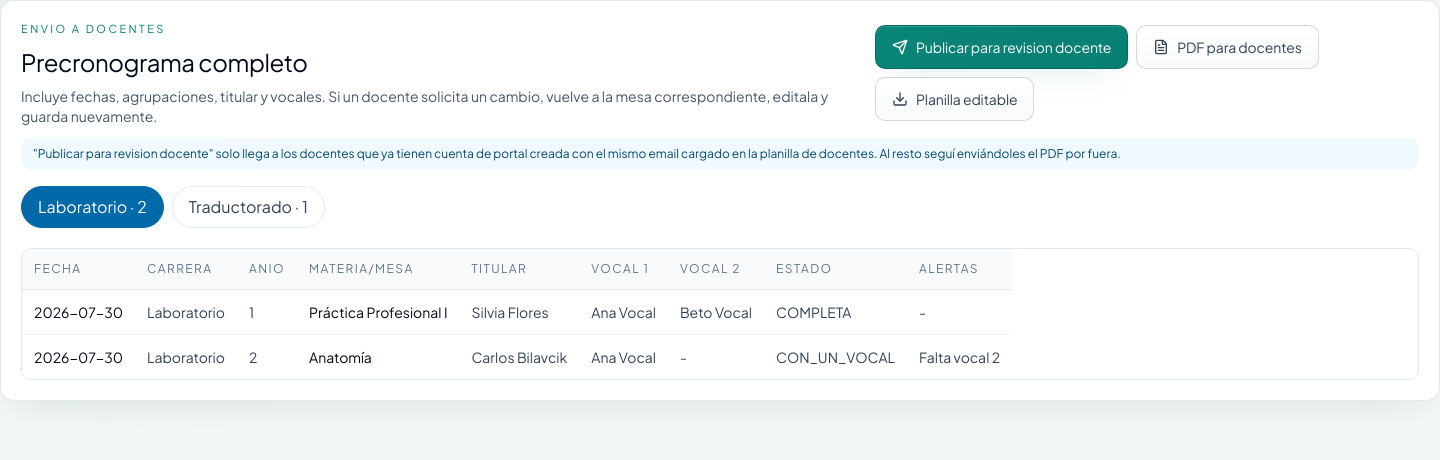
Test case: TribunalReviewTable › filtra la tabla por carrera para no mostrar todas las mesas juntas
This screenshot has width=1440, height=460.
Check: the text "Práctica Profesional I" is shown, box top-left (297, 289), bottom-right (460, 334)
Check: the text "Anatomía" is shown, box top-left (297, 334), bottom-right (460, 378)
Step 1. Click the button "Traductorado · 1" → (248, 206), box top-left (172, 186), bottom-right (325, 228)
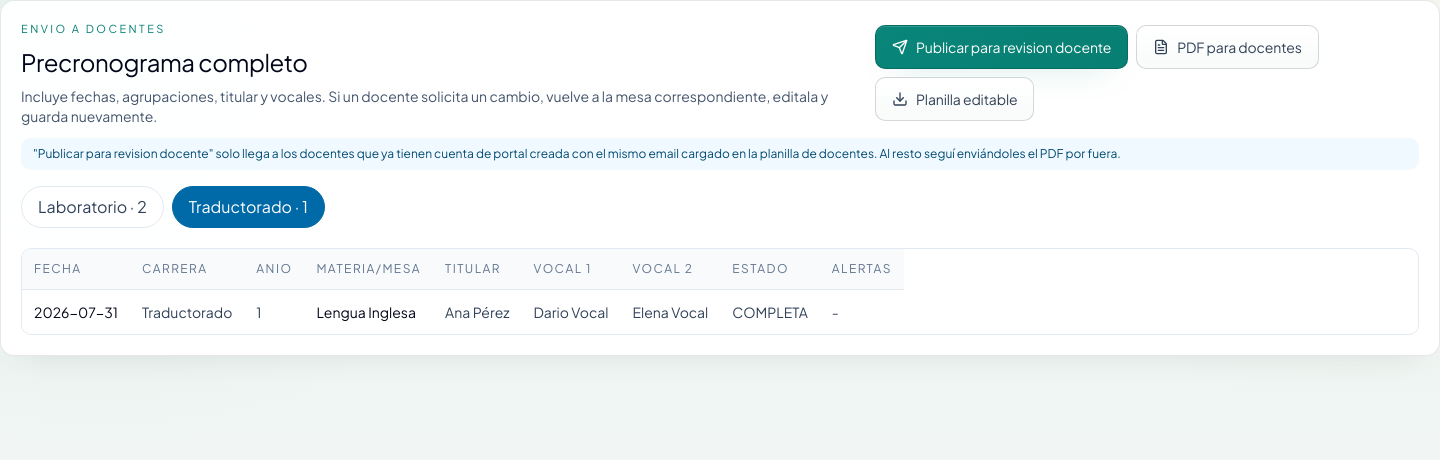
Check: the text "Lengua Inglesa" is shown, box top-left (304, 289), bottom-right (433, 334)
Check: the text "Práctica Profesional I" is gone
Check: the text "Anatomía" is gone
